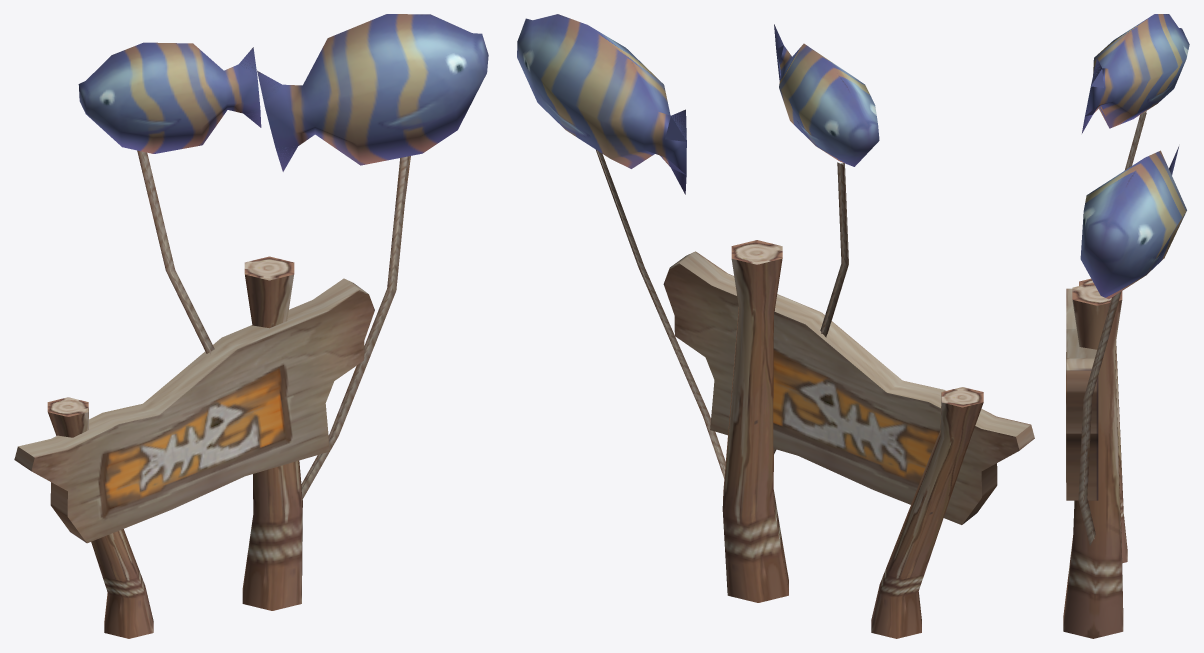
Rendered from map_1002_xwj_29.FBX.
3 views of the same model, side by side, from view 1: azimuth 30°, elevation 25°; view 2: azimuth 150°, elevation 25°; view 3: azimuth 270°, elevation 25° (orthographic). The views are drawn at different scales.
Visible parts, largest first — view 1: map_1002_xwj_29; view 2: map_1002_xwj_29; view 3: map_1002_xwj_29.
Part boxes in pixels (bbox=[...]): map_1002_xwj_29: bbox=[14, 14, 488, 638]; map_1002_xwj_29: bbox=[517, 14, 1034, 638]; map_1002_xwj_29: bbox=[1063, 14, 1189, 638].
Size of the model in its own units: 3.22 by 3.59 by 0.7313.
